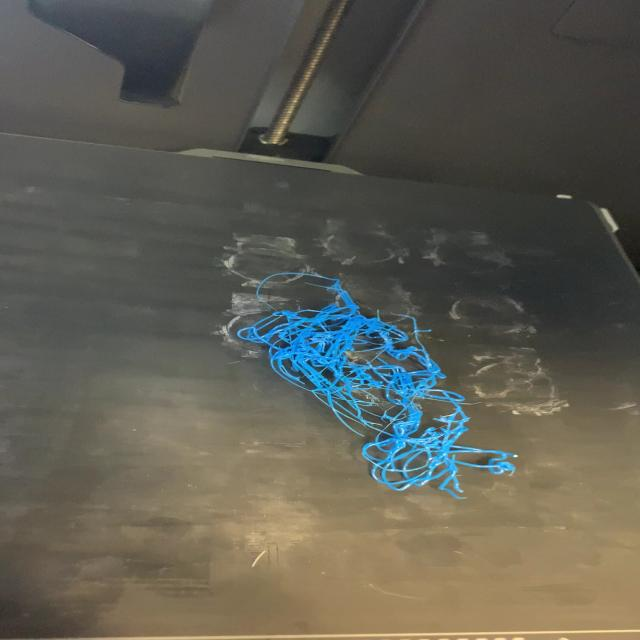spaghetti: (230, 269, 521, 501)
